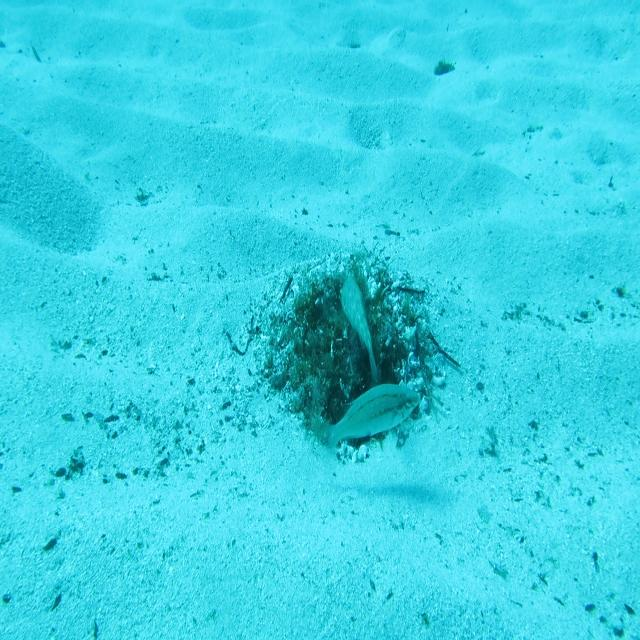NIP_CORE: (336, 269, 380, 382)
core_nest: (322, 296, 371, 345)
female: (312, 381, 422, 463)
nest: (241, 244, 454, 471)
vegetation: (432, 58, 456, 77)
